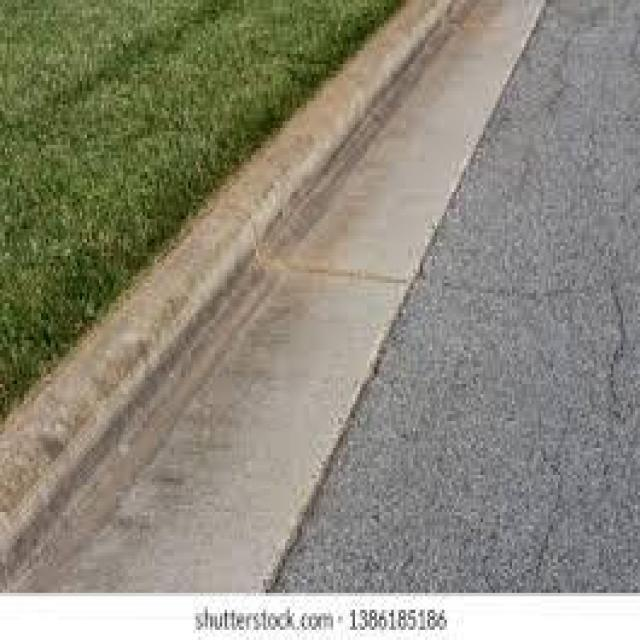curb: (1, 318, 148, 587), (214, 82, 395, 229), (135, 198, 296, 350), (310, 52, 457, 121), (392, 1, 477, 52)
